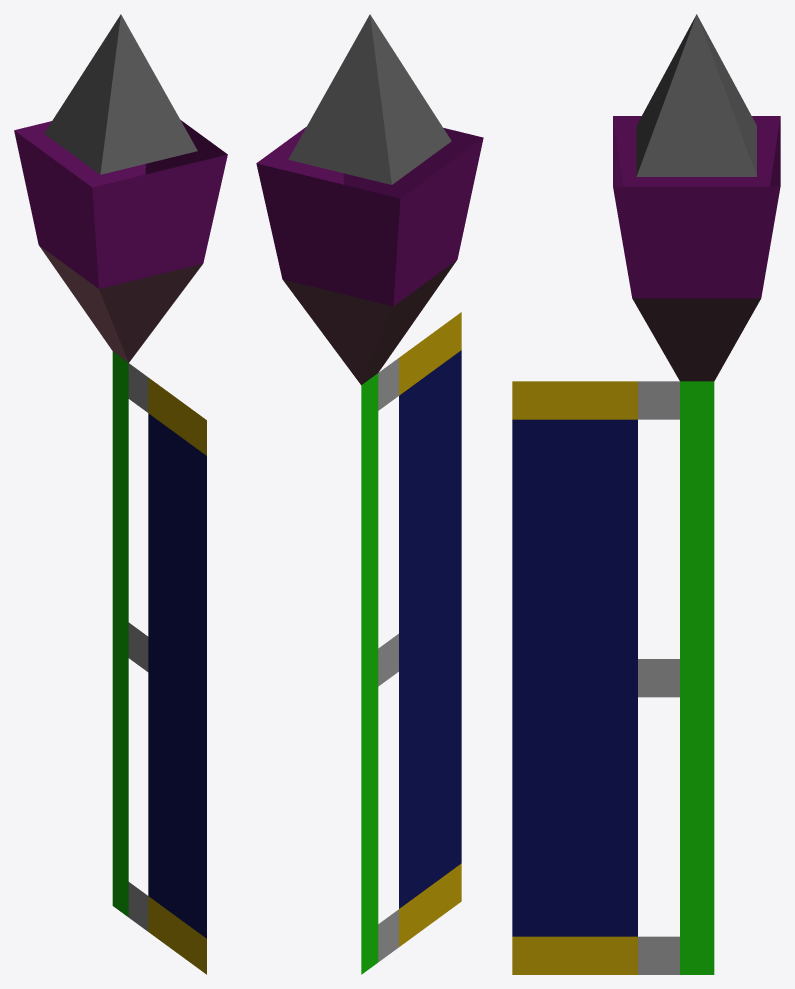
File: post01.obj
3 renders of one model, left to right at view 1: azimuth 30°, elevation 25°; view 2: azimuth 150°, elevation 25°; view 3: azimuth 270°, elevation 25°, orthographic. The views are drawn at different scales.
Visible parts, largest first — view 1: Cube.024_Cube.022; view 2: Cube.024_Cube.022; view 3: Cube.024_Cube.022.
Boxes of the visible parts, <box> form: Cube.024_Cube.022: <box>14,14,227,974</box>; Cube.024_Cube.022: <box>256,14,483,974</box>; Cube.024_Cube.022: <box>512,14,780,974</box>.
Size of the model in its own units: 20 by 127 by 32.
